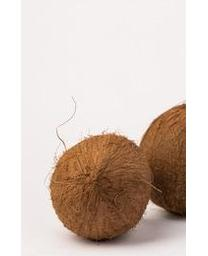coconut: (47, 134, 151, 241)
